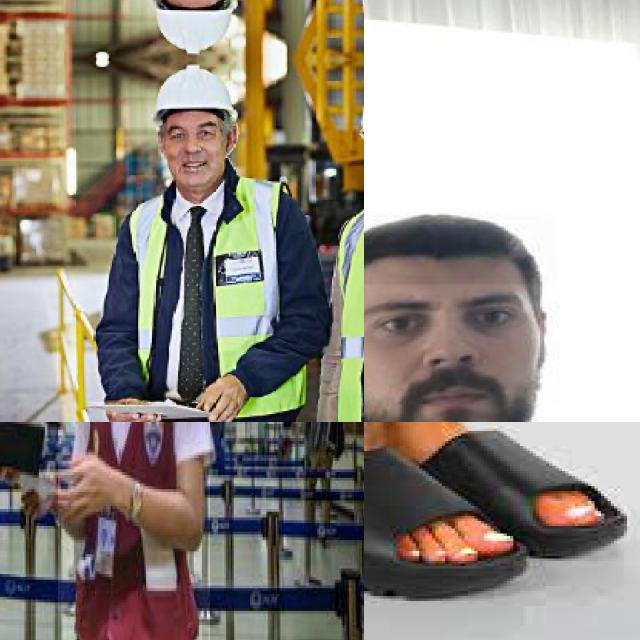No_Ear-Protection: (225, 123, 239, 158), (157, 125, 165, 152)
No_Glasses: (364, 283, 528, 356), (165, 120, 222, 144)
Sandals: (364, 422, 526, 603)
face_nomask: (364, 284, 538, 422), (167, 143, 226, 187)
hand_noglove: (50, 444, 111, 529), (196, 374, 248, 422), (106, 412, 160, 422)
head_helmet: (154, 65, 233, 122), (156, 0, 234, 53)
head_nohelmet: (364, 213, 559, 285)
person: (58, 422, 211, 640)
